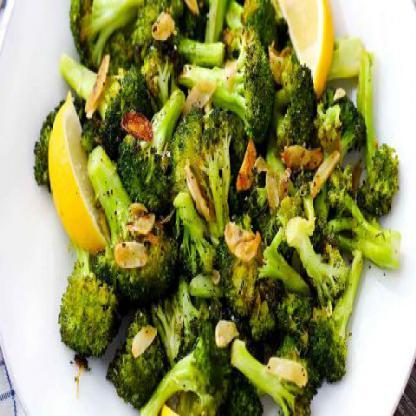broccoli: (32, 0, 403, 415)
